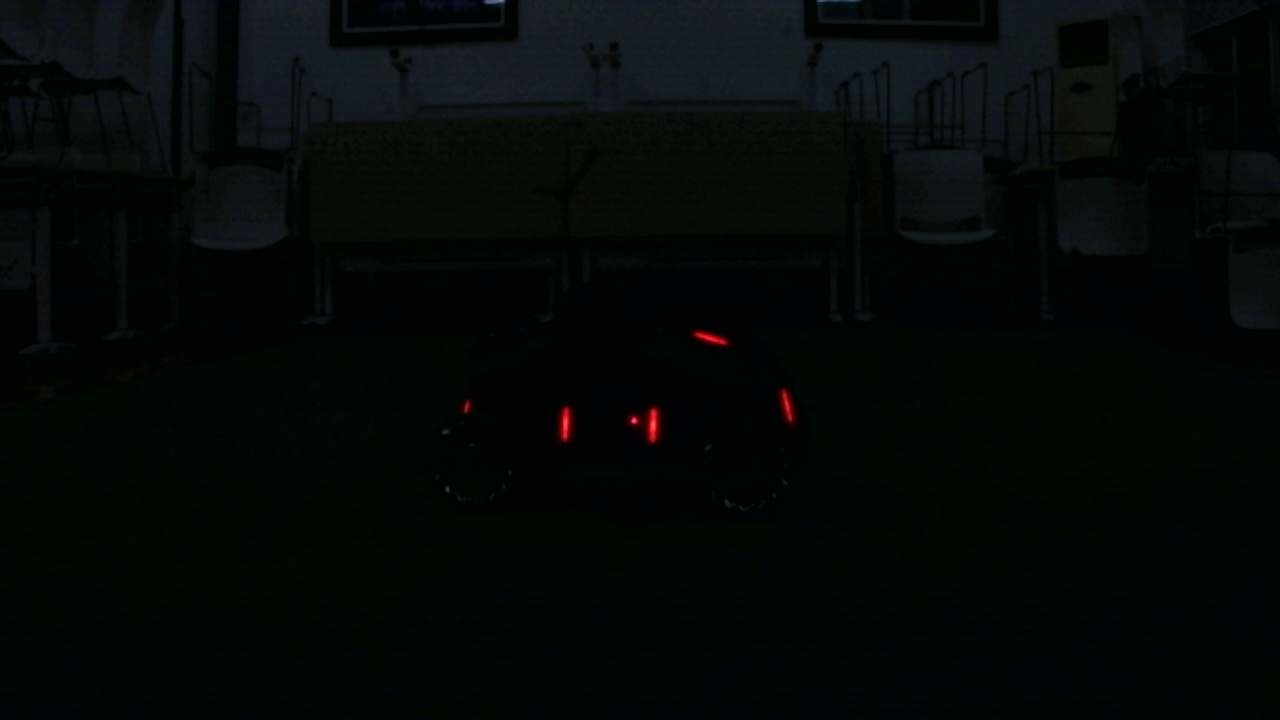lamp: (778, 386, 798, 425), (647, 403, 662, 446), (559, 402, 572, 444)
pair1: (561, 407, 661, 443)
